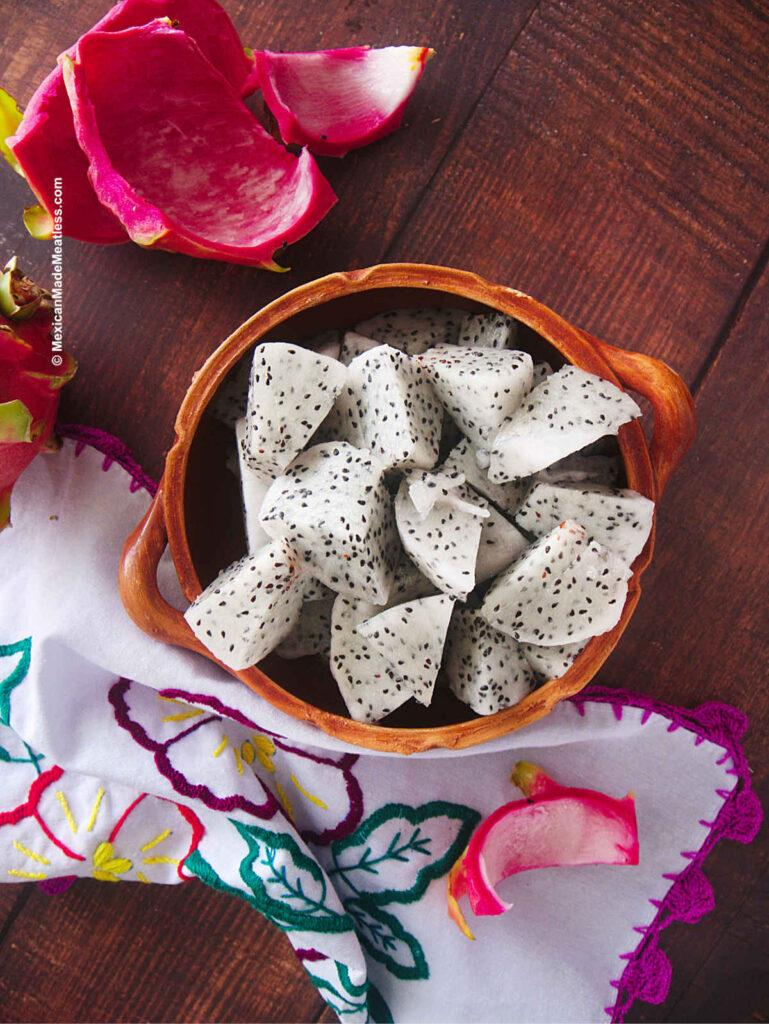organic: (56, 16, 338, 270), (445, 759, 639, 941), (257, 439, 389, 607), (252, 45, 436, 159), (476, 518, 635, 647), (487, 364, 643, 486), (185, 539, 305, 671), (243, 341, 348, 482), (336, 342, 447, 468), (395, 465, 489, 603), (414, 346, 533, 453), (354, 592, 456, 706), (443, 610, 535, 717)
